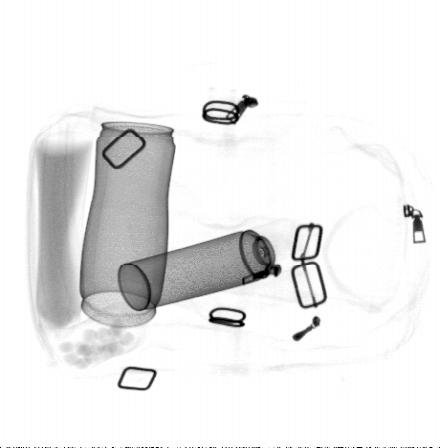Sprayer: (117, 214, 309, 313)
